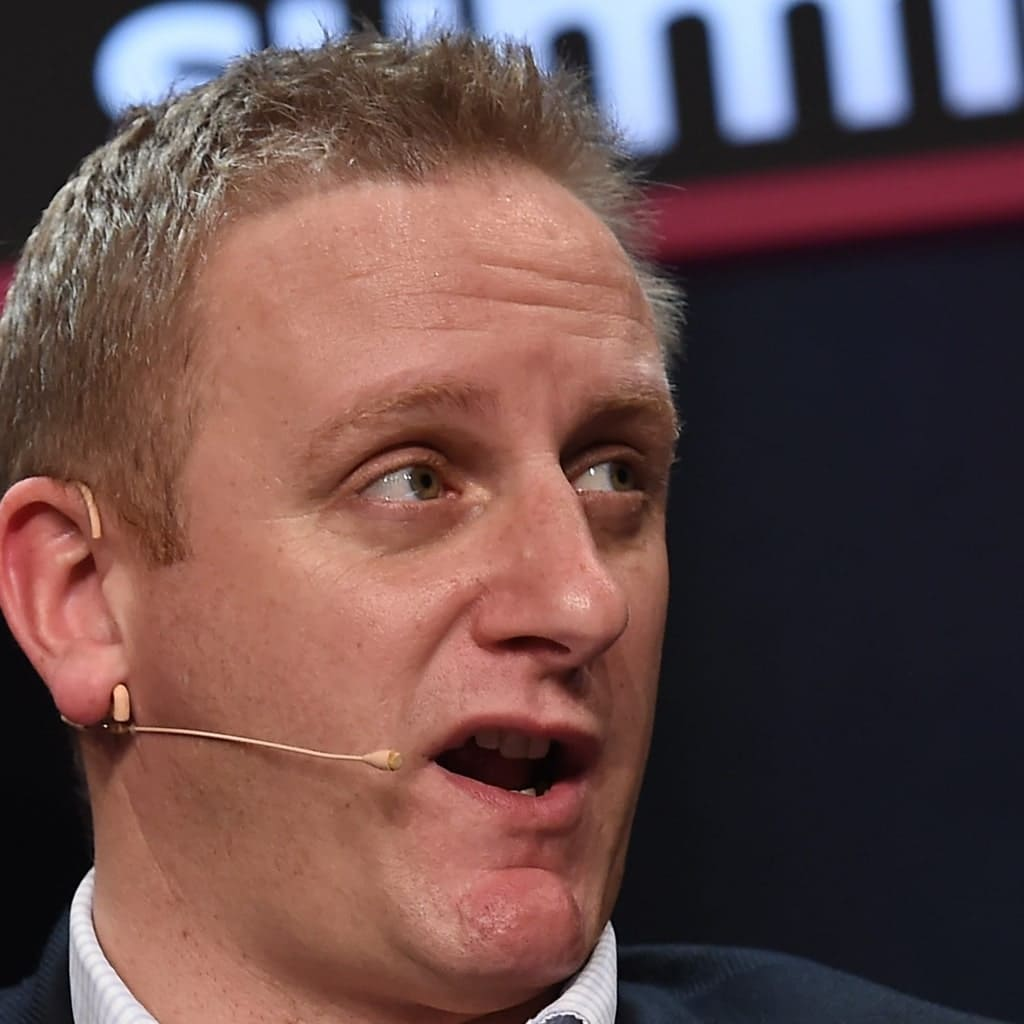without_mask: (234, 305, 666, 917)
